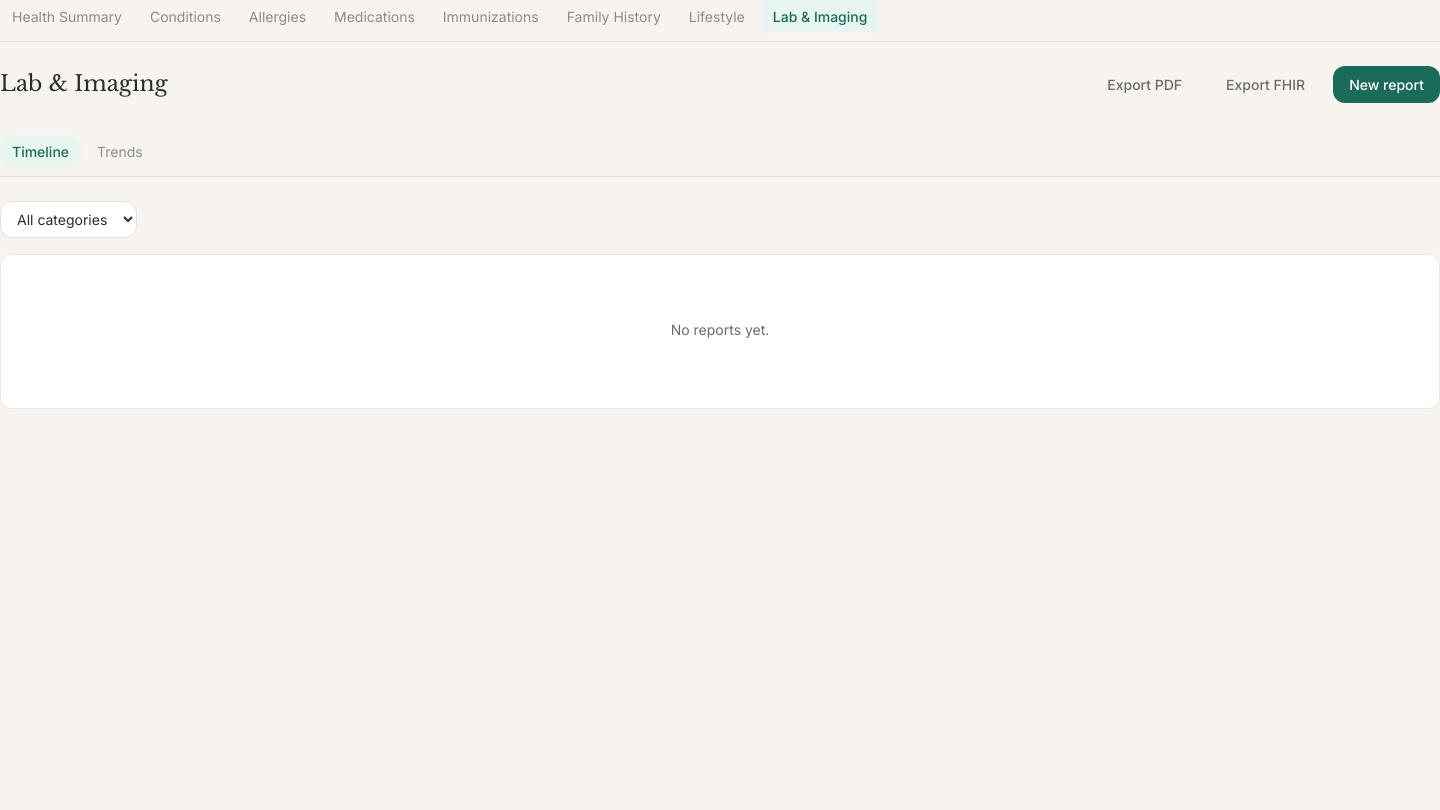
Test case: LabReportsPage › opens create report form
Expected: the text "No reports yet." is shown, [671,321,769,338]
Click the button "New report" at (1387, 84), box [1333,66,1439,103]
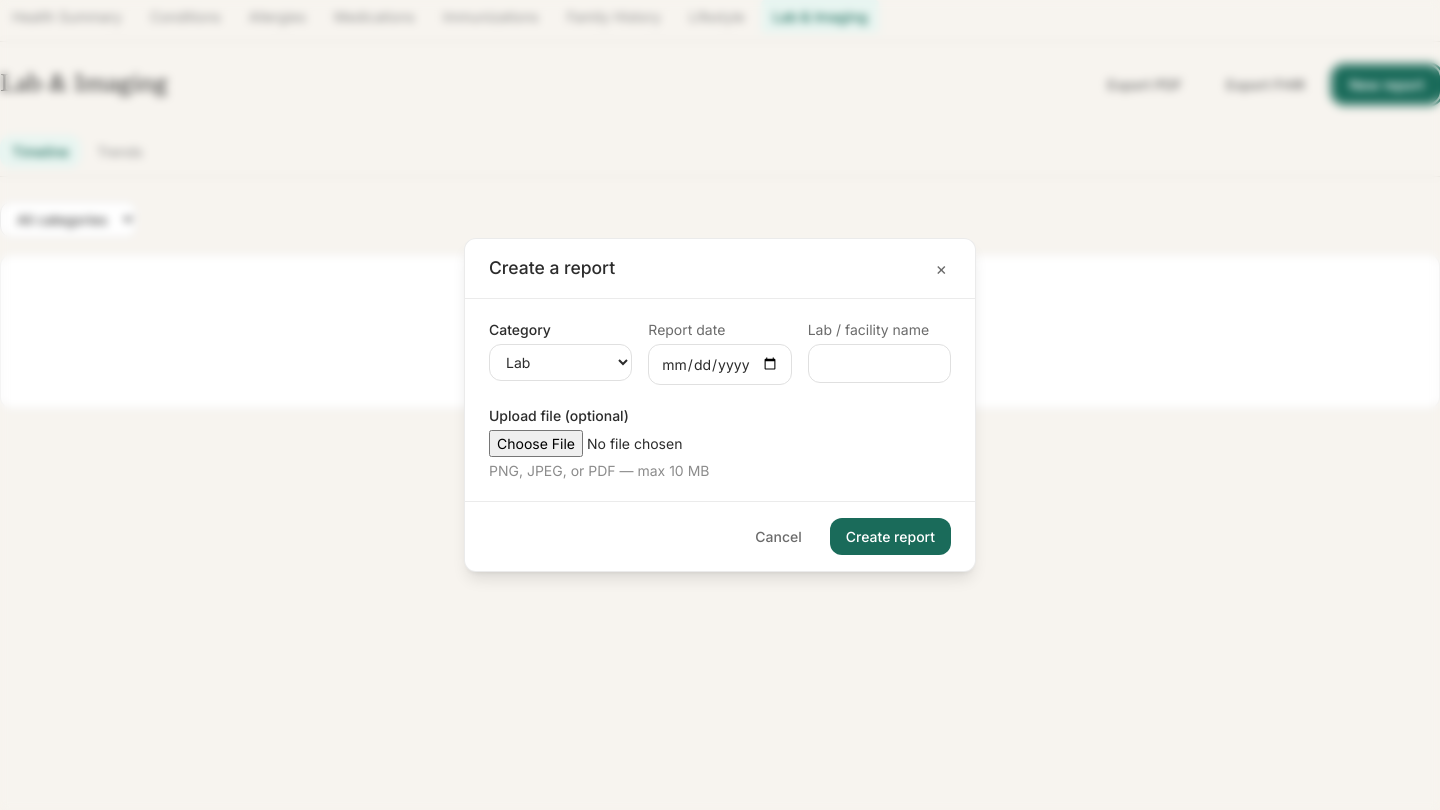
Now the heading "Create a report" is shown, box [489,255,615,282]
Now the date field labelled "Report date" is shown, box [648,344,792,385]
